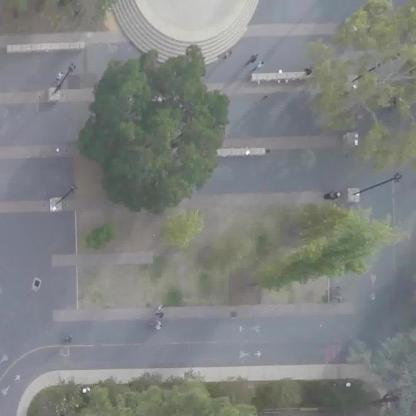Pedestrian: (53, 67, 79, 92), (257, 88, 277, 111), (144, 321, 170, 338), (302, 62, 318, 82), (150, 310, 172, 324), (243, 51, 257, 67), (221, 46, 234, 63), (254, 58, 265, 74), (153, 304, 166, 311)
Skateboarder: (61, 326, 88, 352)
